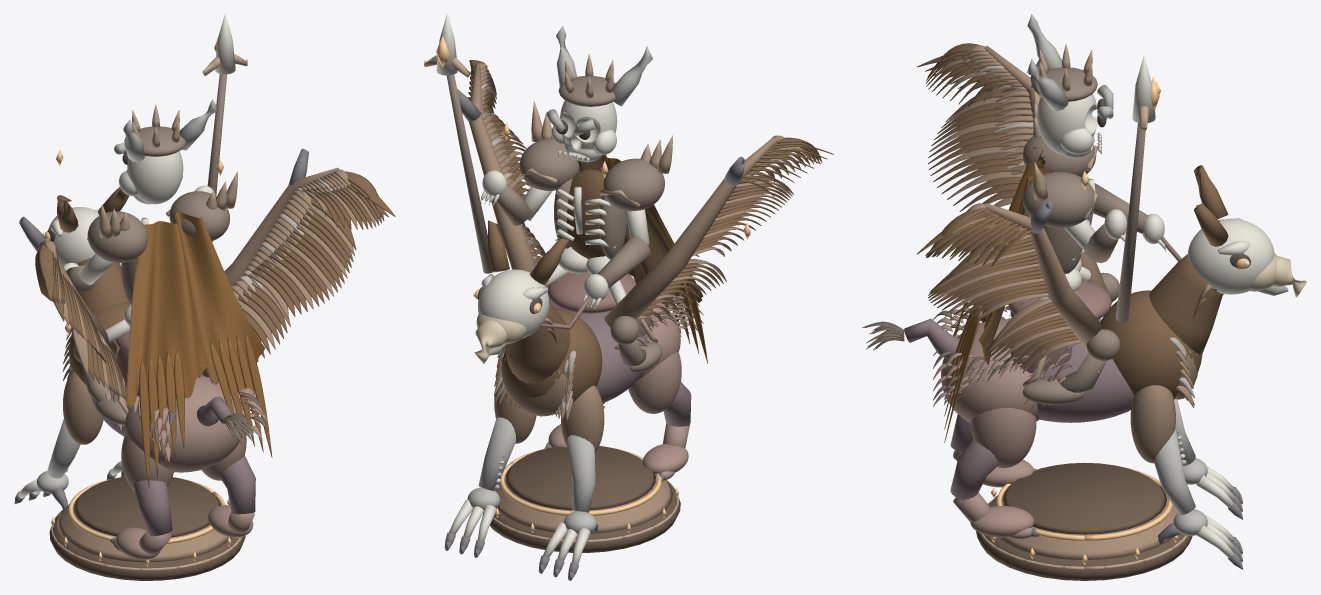
Rendered from cavalier_griffon_orange.fbx.
3 views of the same model, side by side, from view 1: azimuth 30°, elevation 25°; view 2: azimuth 150°, elevation 25°; view 3: azimuth 270°, elevation 25° (orthographic). The views are drawn at different scales.
Visible parts, largest first — view 1: RIDER_CAPE_DAMAGED_1, CHESS_PEDESTAL_CAP, GRIFFON_LION_HAUNCHES, CHESS_PEDESTAL_LOWER, CHESS_PEDESTAL_BEVEL, RIDER_SKULL_SCULPTED, FORE_UPPER_-1, RIDER_PAULDRON_-1, WING_BONE_1, RIDER_PAULDRON_1, HIND_HOCK_-1, GRIFFON_HEAD_CRANIUM (+30 smaller); view 2: CHESS_PEDESTAL_CAP, WING_BONE_-1, CHESS_PEDESTAL_BEVEL, GRIFFON_EAGLE_CHEST, CHESS_PEDESTAL_LOWER, GRIFFON_HEAD_CRANIUM, GRIFFON_NECK_MAIN, WING_BONE_1, RIDER_SKULL_SCULPTED, RIDER_PAULDRON_-1, GRIFFON_LION_TORSO, RIDER_PAULDRON_1 (+34 smaller); view 3: CHESS_PEDESTAL_CAP, GRIFFON_EAGLE_CHEST, CHESS_PEDESTAL_LOWER, GRIFFON_NECK_MAIN, GRIFFON_LION_HAUNCHES, GRIFFON_HEAD_CRANIUM, GRIFFON_LION_TORSO, CHESS_PEDESTAL_BEVEL, WING_BONE_1, HIND_THIGH_1, RIDER_SKULL_SCULPTED, FORE_UPPER_1 (+30 smaller).
Part boxes in pixels (bbox=[...]): RIDER_CAPE_DAMAGED_1: bbox=[127, 212, 265, 406]; CHESS_PEDESTAL_CAP: bbox=[74, 476, 220, 537]; GRIFFON_LION_HAUNCHES: bbox=[124, 375, 243, 472]; CHESS_PEDESTAL_LOWER: bbox=[49, 510, 245, 580]; CHESS_PEDESTAL_BEVEL: bbox=[57, 495, 231, 562]; RIDER_SKULL_SCULPTED: bbox=[119, 151, 183, 204]; FORE_UPPER_-1: bbox=[63, 371, 103, 444]; RIDER_PAULDRON_-1: bbox=[87, 211, 147, 262]; WING_BONE_1: bbox=[224, 167, 338, 286]; RIDER_PAULDRON_1: bbox=[169, 191, 229, 240]; HIND_HOCK_-1: bbox=[134, 480, 172, 536]; GRIFFON_HEAD_CRANIUM: bbox=[48, 207, 99, 265]; CHESS_PEDESTAL_CAP: bbox=[505, 446, 655, 510]; WING_BONE_-1: bbox=[604, 137, 776, 327]; CHESS_PEDESTAL_BEVEL: bbox=[495, 469, 672, 533]; GRIFFON_EAGLE_CHEST: bbox=[501, 308, 602, 414]; CHESS_PEDESTAL_LOWER: bbox=[483, 480, 680, 552]; GRIFFON_HEAD_CRANIUM: bbox=[478, 269, 549, 338]; GRIFFON_NECK_MAIN: bbox=[505, 302, 569, 383]; WING_BONE_1: bbox=[469, 65, 536, 272]; RIDER_SKULL_SCULPTED: bbox=[551, 100, 617, 161]; RIDER_PAULDRON_-1: bbox=[603, 158, 664, 211]; GRIFFON_LION_TORSO: bbox=[563, 309, 648, 402]; RIDER_PAULDRON_1: bbox=[519, 138, 579, 190]; CHESS_PEDESTAL_CAP: bbox=[1002, 462, 1166, 534]; GRIFFON_EAGLE_CHEST: bbox=[1100, 290, 1202, 399]; CHESS_PEDESTAL_LOWER: bbox=[976, 502, 1192, 580]; GRIFFON_NECK_MAIN: bbox=[1149, 254, 1223, 355]; GRIFFON_LION_HAUNCHES: bbox=[941, 319, 1039, 422]; GRIFFON_HEAD_CRANIUM: bbox=[1187, 219, 1274, 294]; GRIFFON_LION_TORSO: bbox=[1031, 319, 1134, 422]; CHESS_PEDESTAL_BEVEL: bbox=[989, 487, 1177, 559]; WING_BONE_1: bbox=[984, 203, 1105, 349]; HIND_THIGH_1: bbox=[971, 408, 1036, 468]; RIDER_SKULL_SCULPTED: bbox=[1037, 94, 1097, 158]; FORE_UPPER_1: bbox=[1130, 385, 1175, 463].
Bounding box in the file's own units: 143 × 190 × 143.
